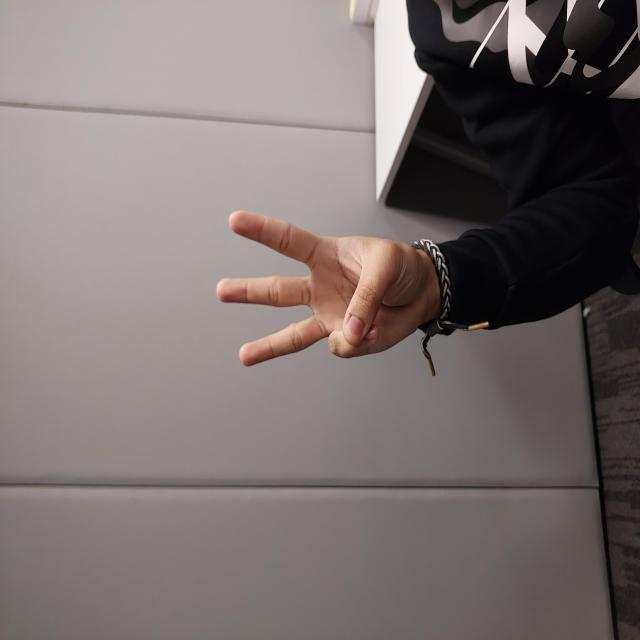W: (273, 214, 431, 430)
